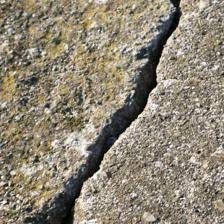Crack: (16, 2, 167, 222)
